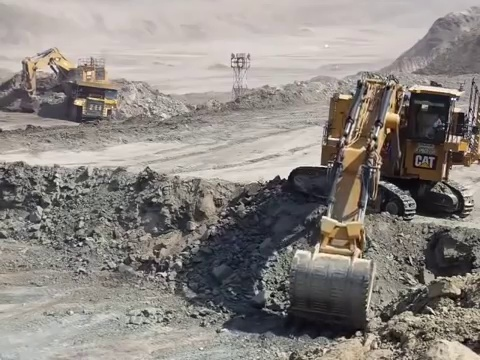excavator: (289, 79, 479, 331), (21, 46, 119, 124)
